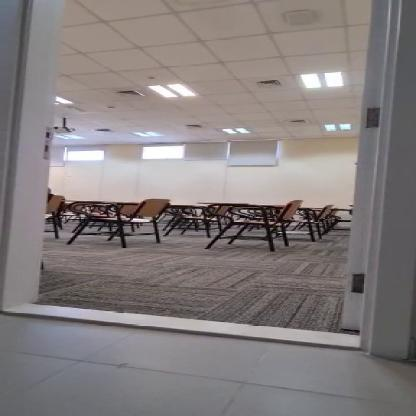open: (0, 0, 415, 370)
